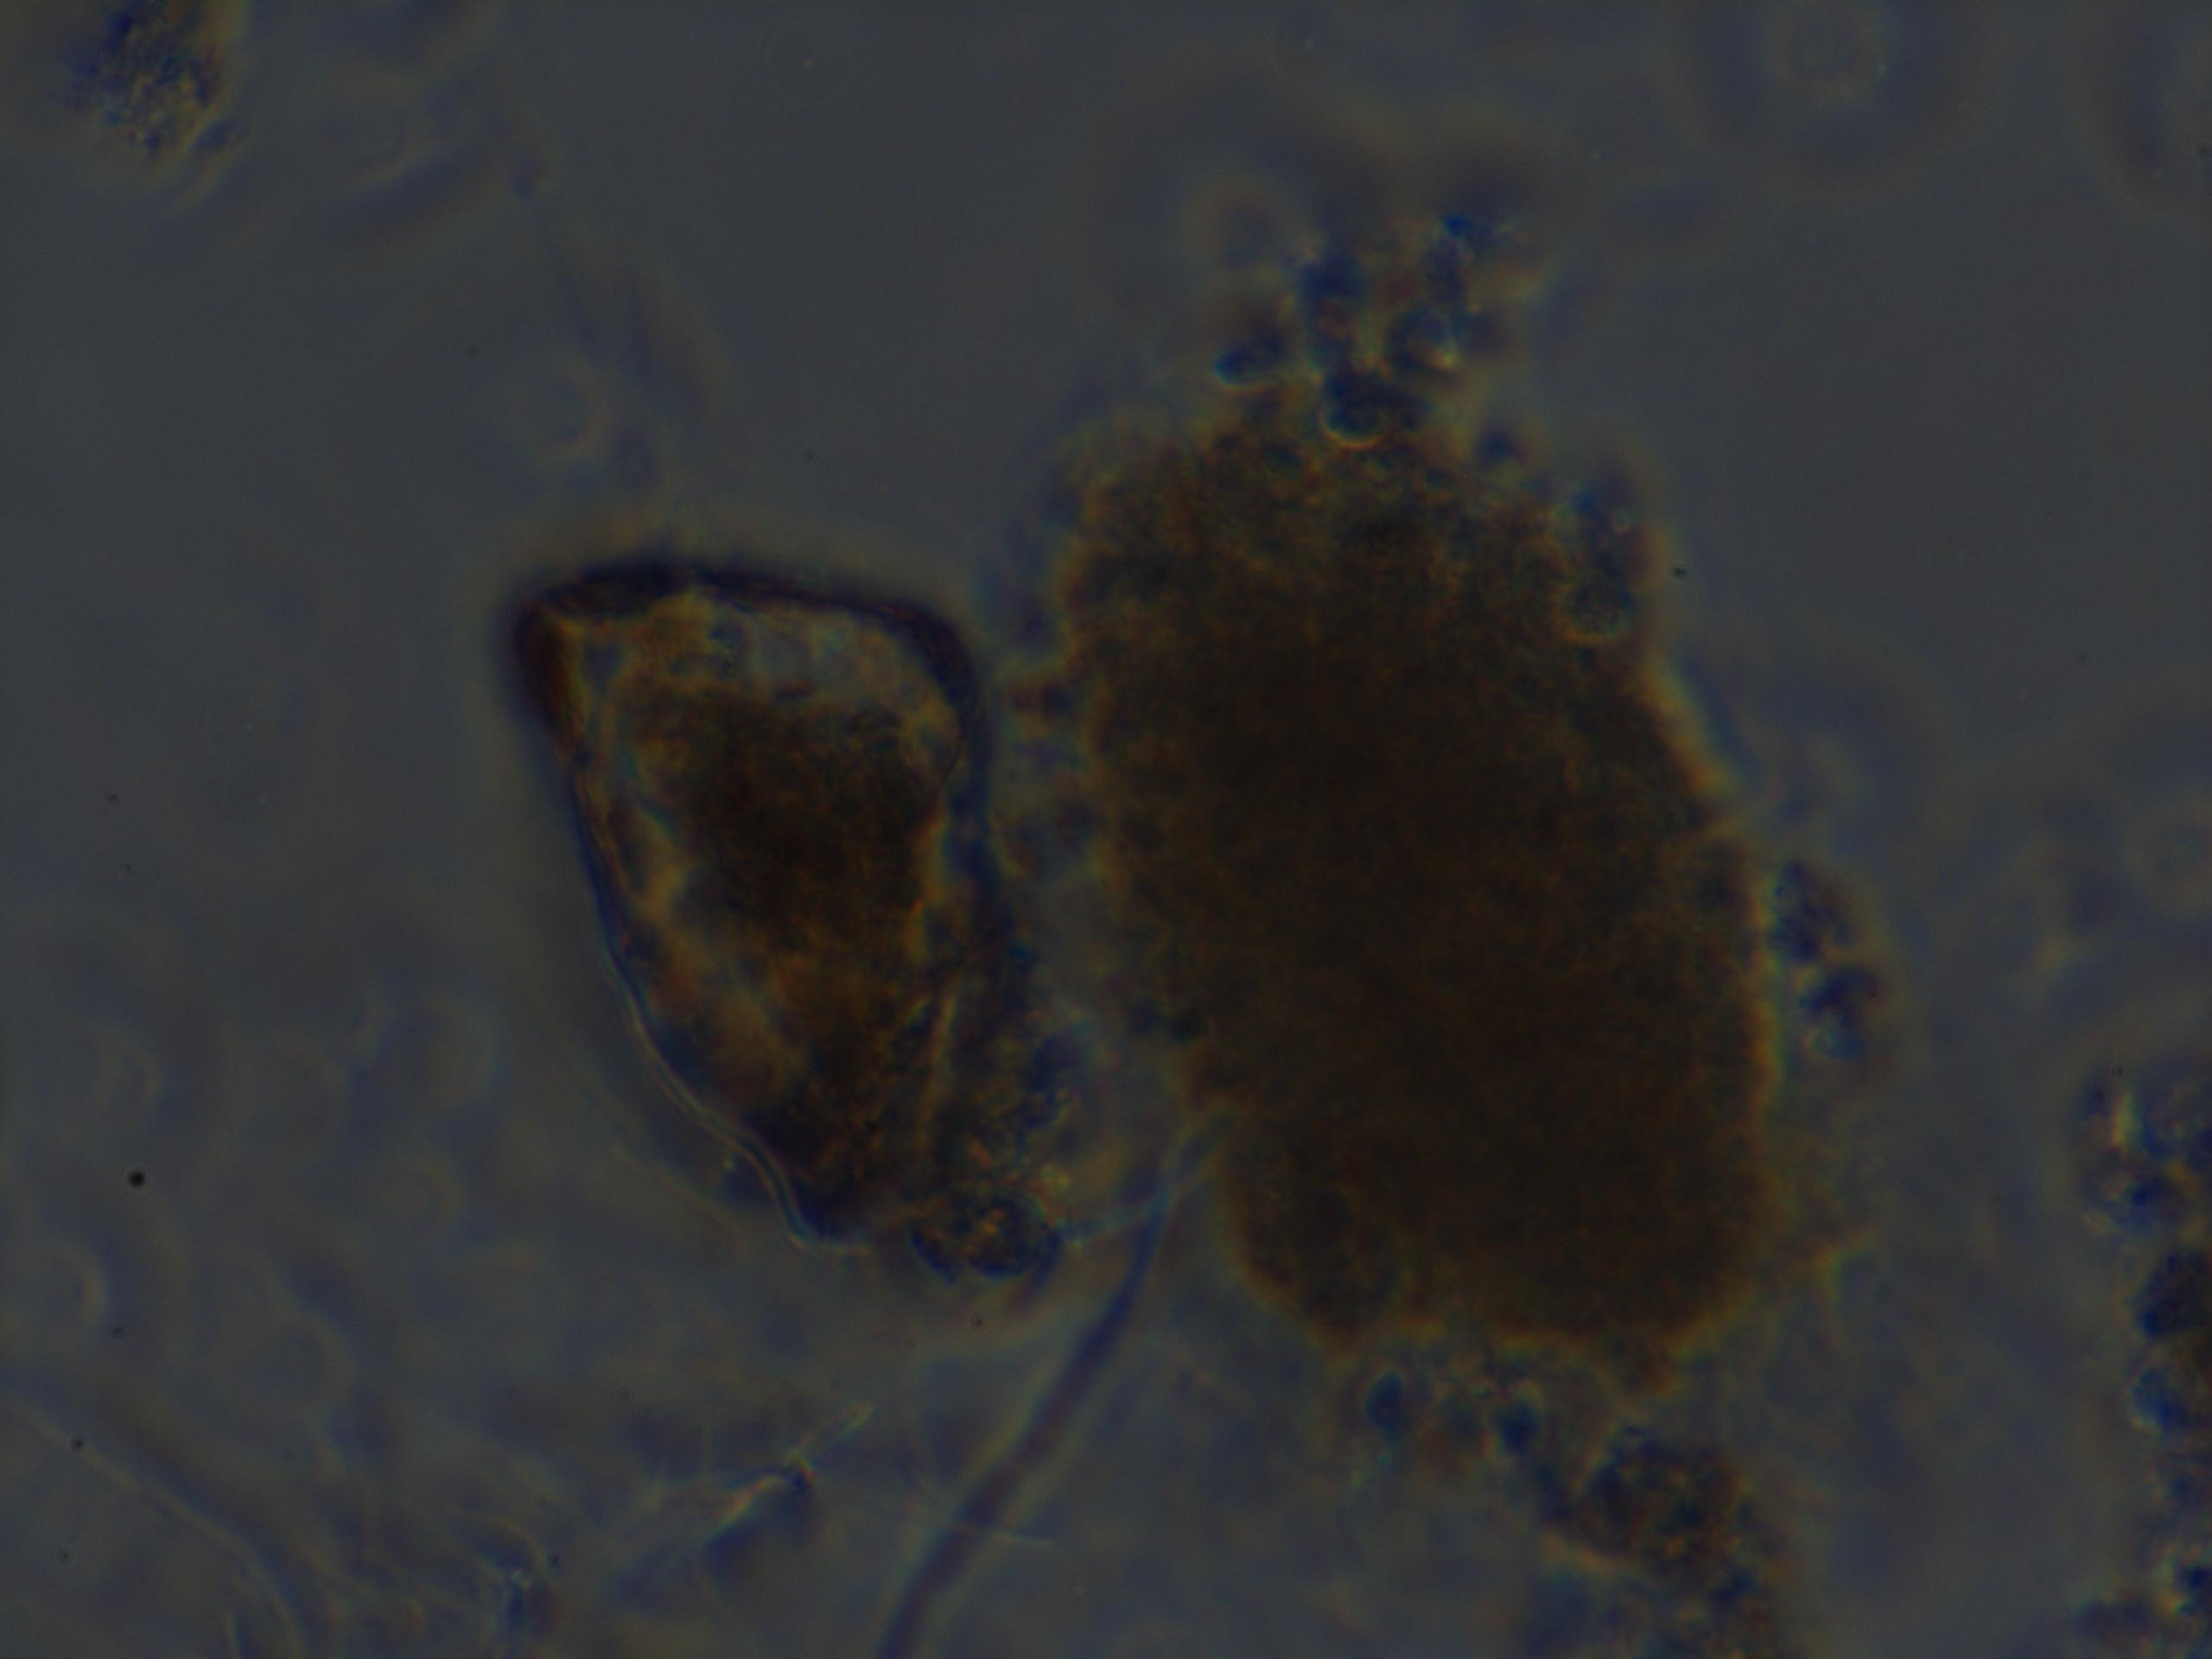filament: (867, 1220, 1221, 1656)
spherical_floc: (1055, 390, 1791, 1392)
